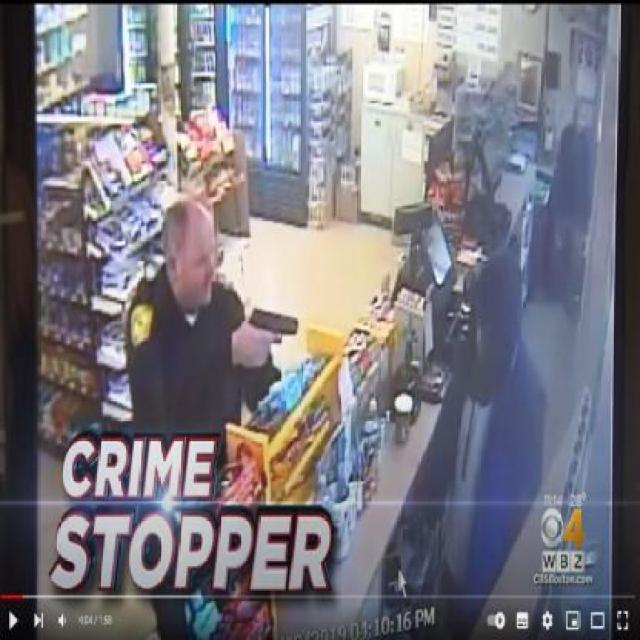Gun: (239, 306, 301, 371)
